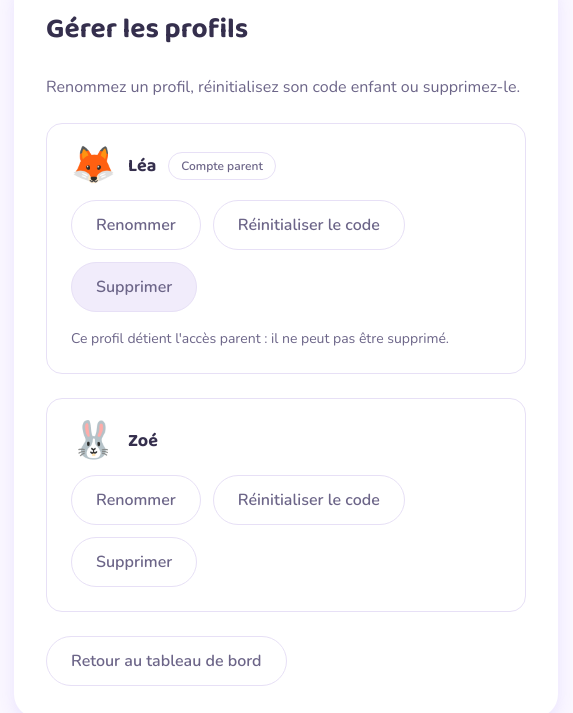
Test case: ProfileManager — renommer › Annuler ferme le panneau sans appeler l'action
This screenshot has width=573, height=713.
Click the button "Renommer" below "Zoé" at x=136, y=500, box [71,475,201,525]
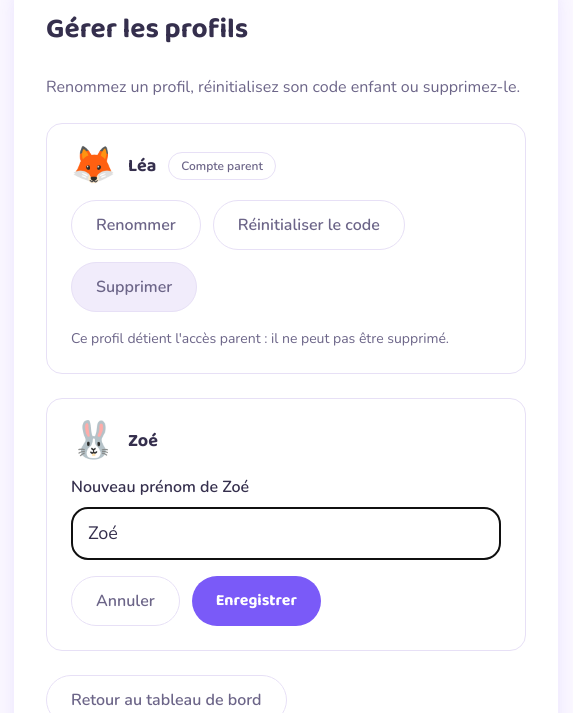
Click the button "Annuler" at x=125, y=601, box [71,576,180,626]
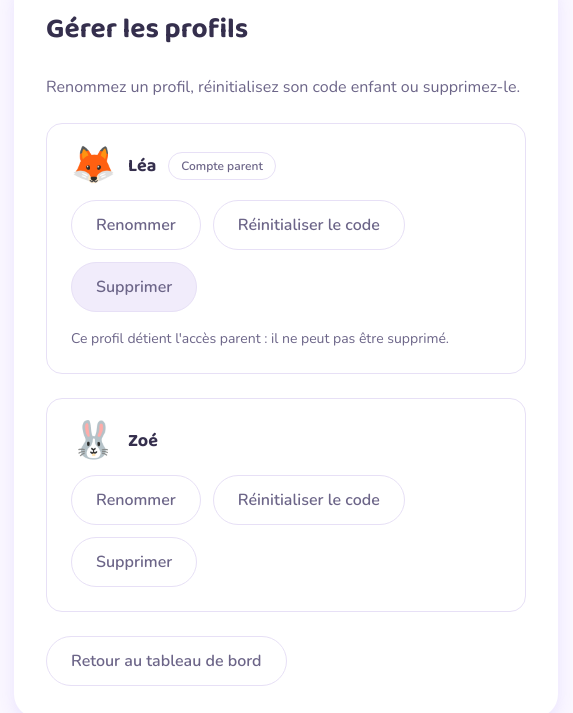
Result: the field is gone
